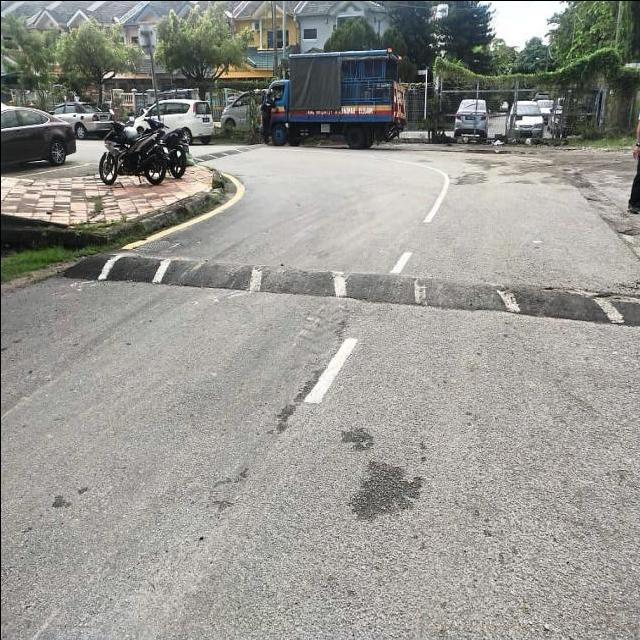Marked Bump: (115, 243, 628, 347)
